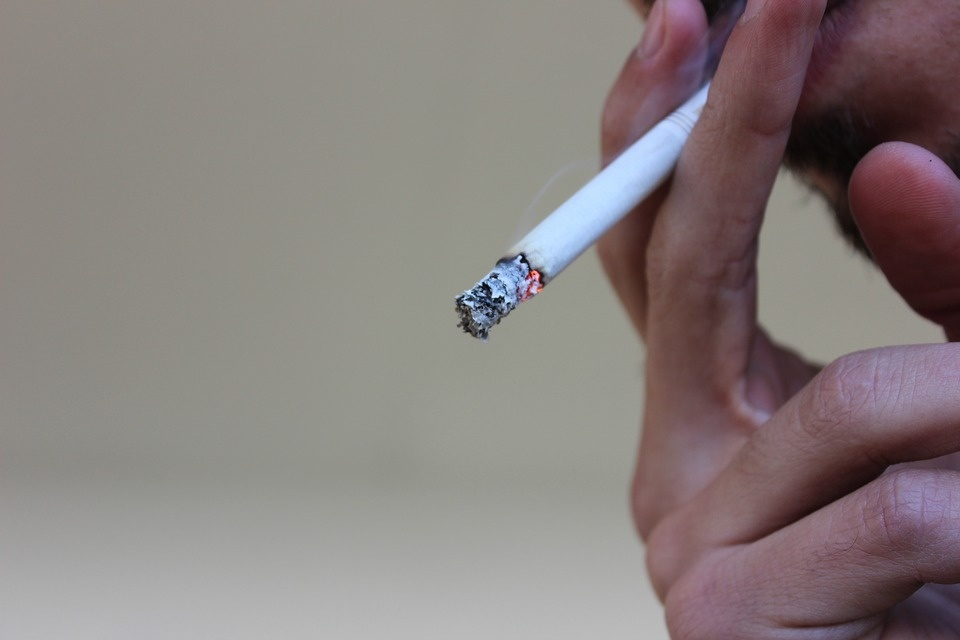sigaretta: (458, 62, 734, 338)
